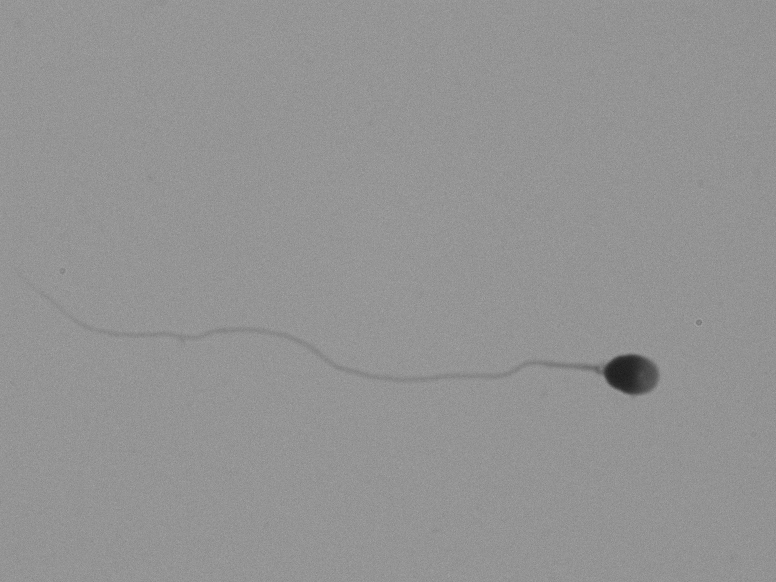Normal: (33, 225, 679, 444)
